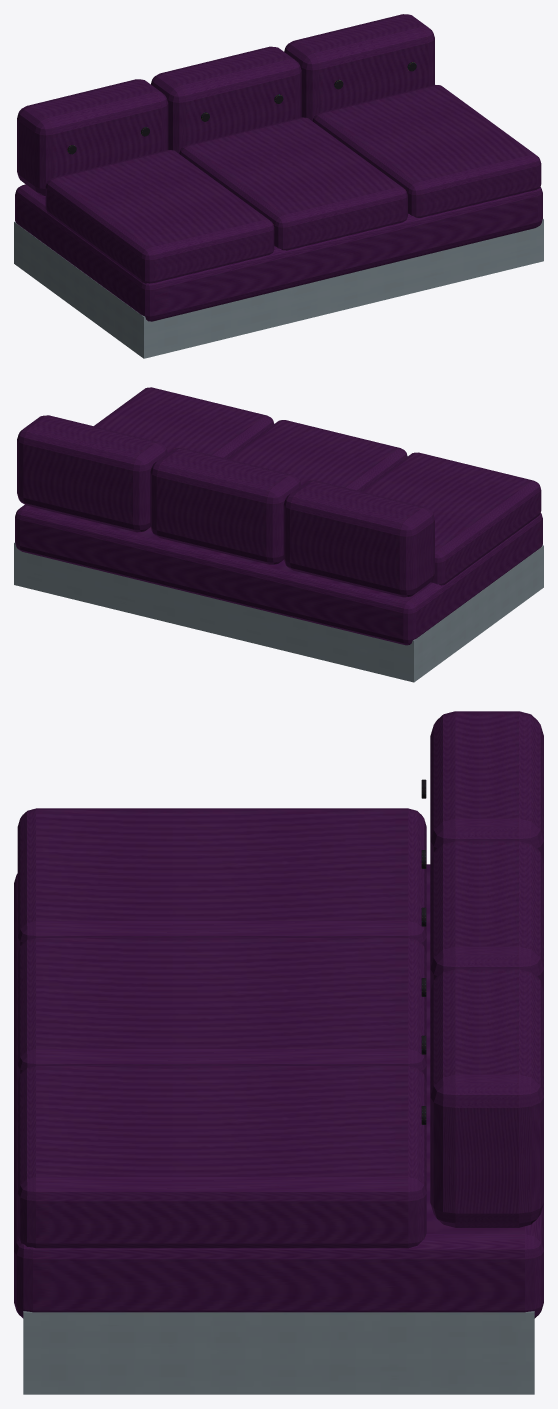
Rendered from sofa.glb.
3 renders of one model, top to bottom at view 1: azimuth 30°, elevation 25°; view 2: azimuth 150°, elevation 25°; view 3: azimuth 270°, elevation 25°, orthographic. The views are drawn at different scales.
Visible parts, largest first — view 1: sofa; view 2: sofa; view 3: sofa.
Part boxes in pixels (x1,y1,x2,y2): sofa: (14, 14, 543, 358); sofa: (14, 387, 543, 682); sofa: (14, 711, 543, 1394).
Bounding box in the file's own units: 2.4 × 0.9001 × 1.4.
Materials: 1 (1 with a texture image).
